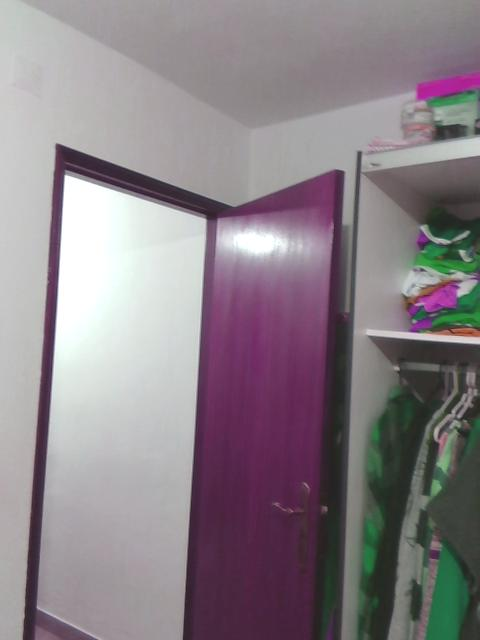open_door: (22, 139, 246, 638)
